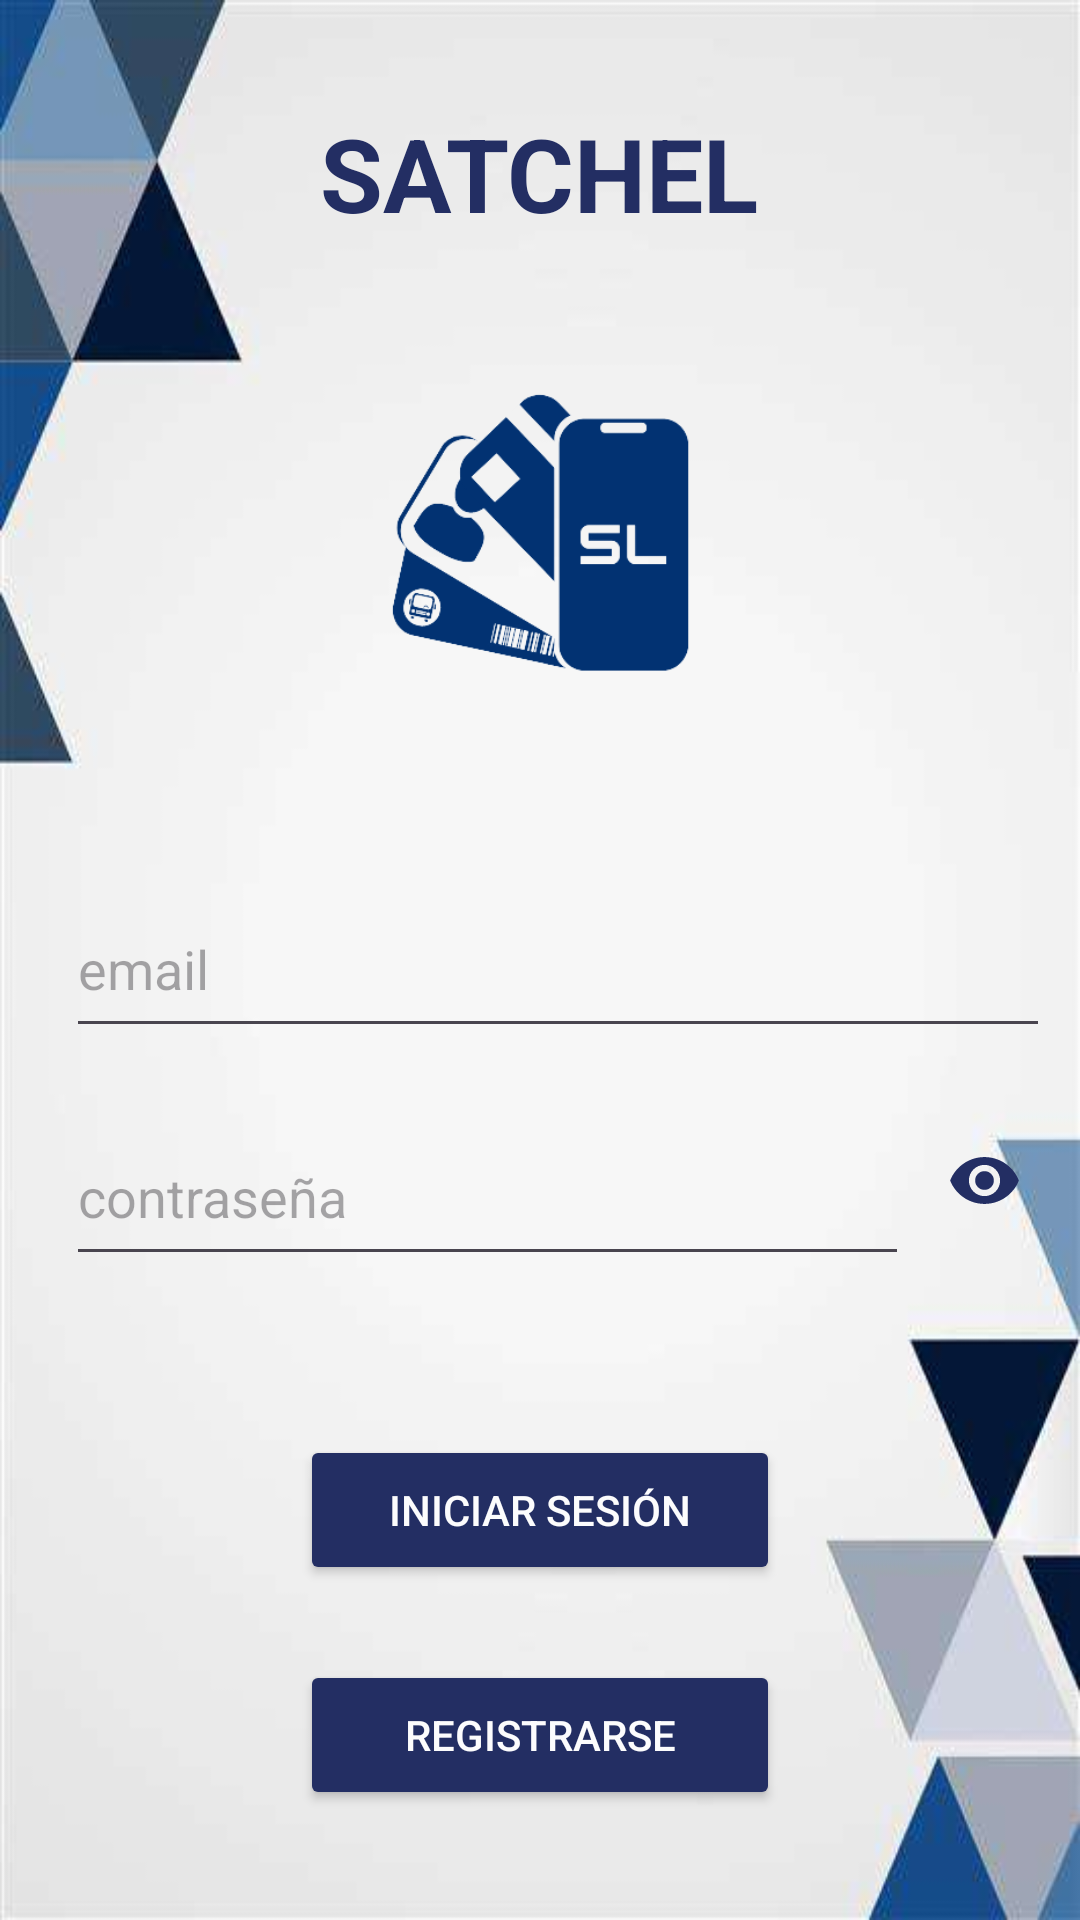

Named icons in this screenshot (1080 x 1920) and their bounding boxes, bbox=(x1, y1, x2, y2):
remove eye: bbox=(950, 1143, 1029, 1217)
